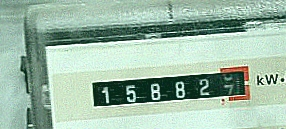1: (98, 83, 111, 103)
2: (197, 76, 210, 95)
5: (123, 82, 136, 102)
7: (222, 81, 234, 96)
8: (148, 79, 161, 101), (173, 78, 186, 100)
screen: (82, 59, 259, 115)
